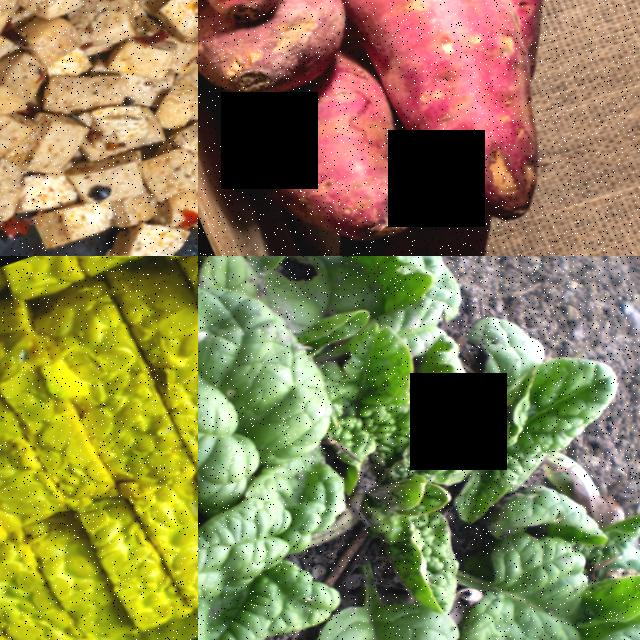spinach: (198, 256, 342, 520), (434, 512, 615, 640), (198, 477, 338, 640), (498, 329, 635, 459), (286, 574, 484, 640), (567, 590, 640, 640)
sweet potato: (295, 0, 594, 250), (222, 42, 440, 256), (198, 0, 371, 123)
